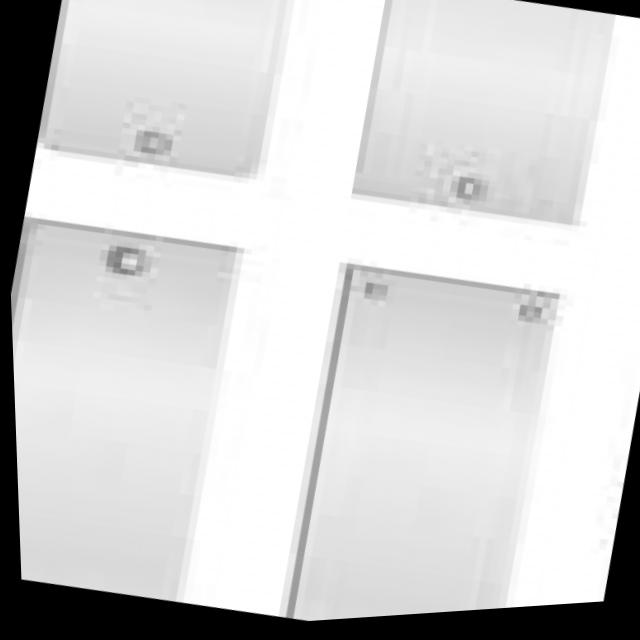metal-plates: (277, 273, 556, 626), (9, 222, 241, 606), (348, 1, 612, 230), (39, 1, 293, 179)
